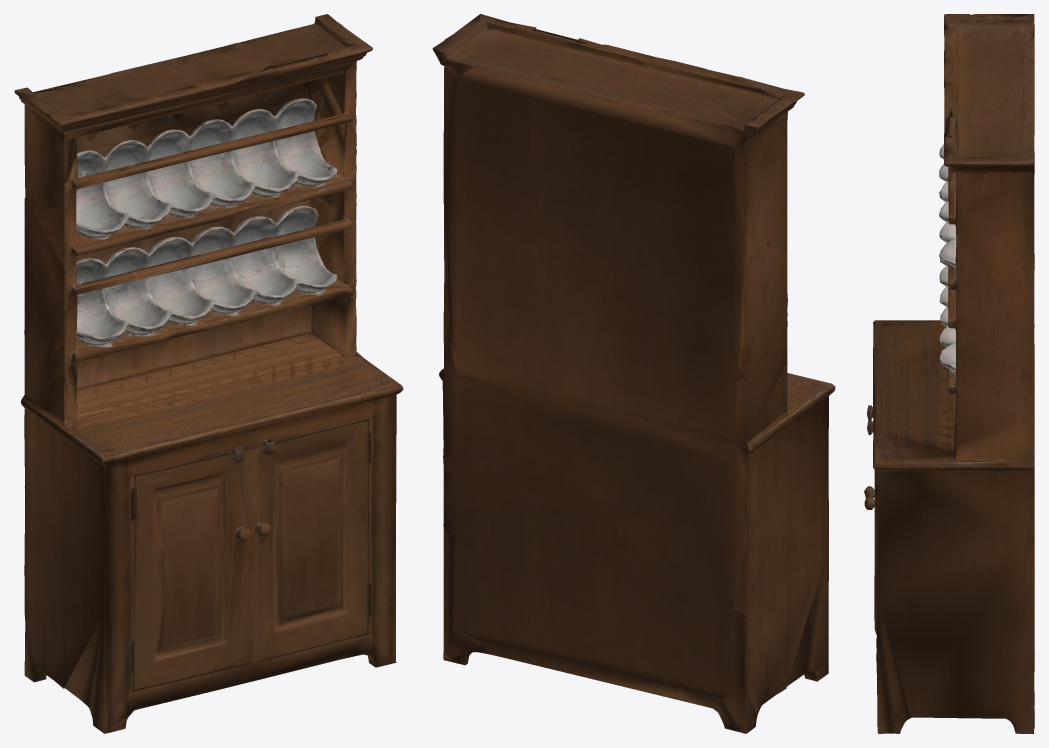
The model's file is dresser-shelves.glb.
3 renders of one model, left to right at view 1: azimuth 30°, elevation 25°; view 2: azimuth 150°, elevation 25°; view 3: azimuth 270°, elevation 25°, orthographic. The views are drawn at different scales.
Visible parts, largest first — view 1: Mesh_0; view 2: Mesh_0; view 3: Mesh_0.
Boxes of the visible parts, box(x1,y1,x2,y2) form: Mesh_0: box(14, 14, 403, 733); Mesh_0: box(432, 14, 835, 733); Mesh_0: box(864, 14, 1034, 733).
Size of the model in its own units: 1.06 by 1.9 by 0.5104.
Materials: 1 (1 with a texture image).
